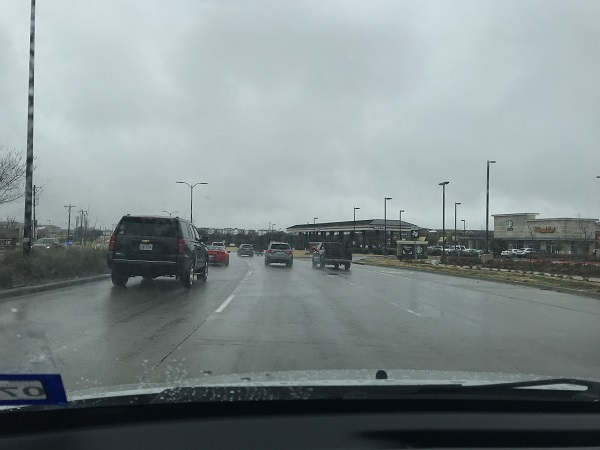car: (107, 216, 210, 286), (265, 241, 295, 268), (204, 243, 229, 264), (238, 243, 250, 254)
truck: (309, 241, 354, 269)
